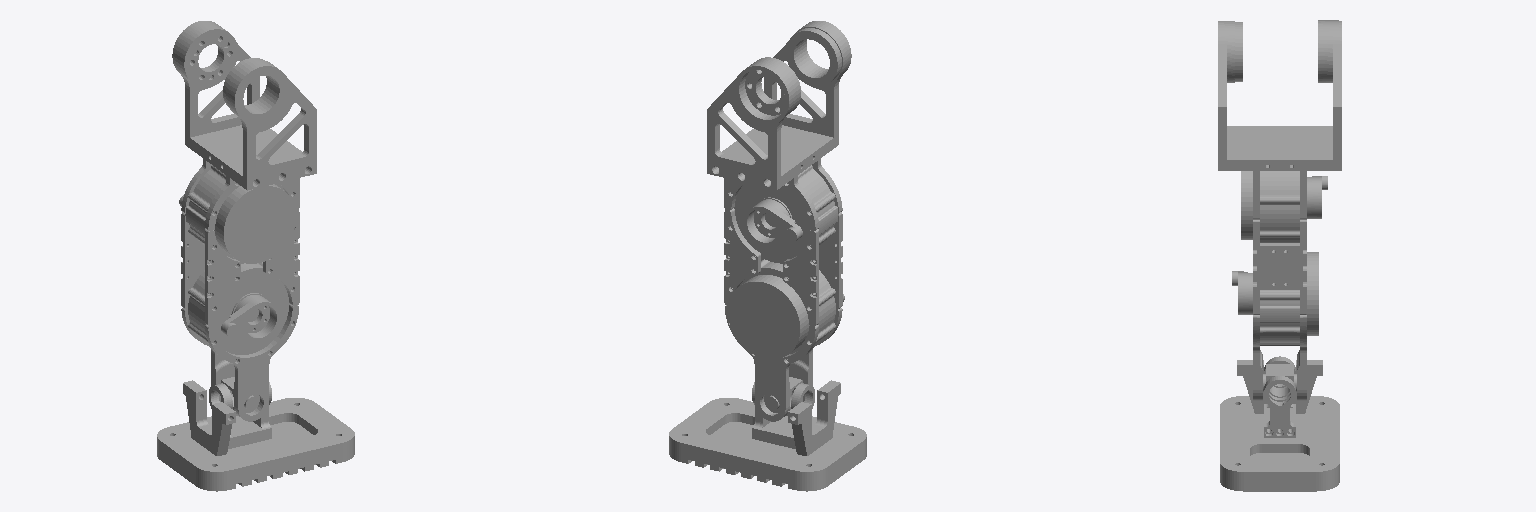
URDF robot description (rsu_2dof):
<?xml version="1.0" ?>
<!-- =================================================================================== -->
<!-- |    This document was autogenerated by xacro from rsu_2dof.xacro                 | -->
<!-- |    EDITING THIS FILE BY HAND IS NOT RECOMMENDED                                 | -->
<!-- =================================================================================== -->
<robot name="rsu_2dof">
  <material name="silver">
    <color rgba="0.700 0.700 0.700 1.000"/>
  </material>
  <transmission name="ankle_pitch_tran">
    <type>transmission_interface/SimpleTransmission</type>
    <joint name="ankle_pitch">
      <hardwareInterface>hardware_interface/EffortJointInterface</hardwareInterface>
    </joint>
    <actuator name="ankle_pitch_actr">
      <hardwareInterface>hardware_interface/EffortJointInterface</hardwareInterface>
      <mechanicalReduction>1</mechanicalReduction>
    </actuator>
  </transmission>
  <transmission name="upper_crank_tran">
    <type>transmission_interface/SimpleTransmission</type>
    <joint name="upper_crank">
      <hardwareInterface>hardware_interface/EffortJointInterface</hardwareInterface>
    </joint>
    <actuator name="upper_crank_actr">
      <hardwareInterface>hardware_interface/EffortJointInterface</hardwareInterface>
      <mechanicalReduction>1</mechanicalReduction>
    </actuator>
  </transmission>
  <transmission name="lower_crank_tran">
    <type>transmission_interface/SimpleTransmission</type>
    <joint name="lower_crank">
      <hardwareInterface>hardware_interface/EffortJointInterface</hardwareInterface>
    </joint>
    <actuator name="lower_crank_actr">
      <hardwareInterface>hardware_interface/EffortJointInterface</hardwareInterface>
      <mechanicalReduction>1</mechanicalReduction>
    </actuator>
  </transmission>
  <transmission name="ankle_roll_tran">
    <type>transmission_interface/SimpleTransmission</type>
    <joint name="ankle_roll">
      <hardwareInterface>hardware_interface/EffortJointInterface</hardwareInterface>
    </joint>
    <actuator name="ankle_roll_actr">
      <hardwareInterface>hardware_interface/EffortJointInterface</hardwareInterface>
      <mechanicalReduction>1</mechanicalReduction>
    </actuator>
  </transmission>
  <gazebo>
    <plugin filename="libgazebo_ros_control.so" name="control"/>
  </gazebo>
  <gazebo reference="base_link">
    <material>Gazebo/Silver</material>
    <mu1>0.2</mu1>
    <mu2>0.2</mu2>
    <self_collide>true</self_collide>
    <gravity>true</gravity>
  </gazebo>
  <gazebo reference="ankle_1">
    <material>Gazebo/Silver</material>
    <mu1>0.2</mu1>
    <mu2>0.2</mu2>
    <self_collide>true</self_collide>
  </gazebo>
  <gazebo reference="upper_crank_1">
    <material>Gazebo/Silver</material>
    <mu1>0.2</mu1>
    <mu2>0.2</mu2>
    <self_collide>true</self_collide>
  </gazebo>
  <gazebo reference="dummy_crank_1">
    <material>Gazebo/Silver</material>
    <mu1>0.2</mu1>
    <mu2>0.2</mu2>
    <self_collide>true</self_collide>
  </gazebo>
  <gazebo reference="point_c1_1">
    <material>Gazebo/Silver</material>
    <mu1>0.2</mu1>
    <mu2>0.2</mu2>
    <self_collide>true</self_collide>
  </gazebo>
  <gazebo reference="point_c2_1">
    <material>Gazebo/Silver</material>
    <mu1>0.2</mu1>
    <mu2>0.2</mu2>
    <self_collide>true</self_collide>
  </gazebo>
  <gazebo reference="dummy_foot_1">
    <material>Gazebo/Silver</material>
    <mu1>0.2</mu1>
    <mu2>0.2</mu2>
    <self_collide>true</self_collide>
  </gazebo>
  <gazebo reference="point_u2_1">
    <material>Gazebo/Silver</material>
    <mu1>0.2</mu1>
    <mu2>0.2</mu2>
    <self_collide>true</self_collide>
  </gazebo>
  <gazebo reference="point_u1_1">
    <material>Gazebo/Silver</material>
    <mu1>0.2</mu1>
    <mu2>0.2</mu2>
    <self_collide>true</self_collide>
  </gazebo>
  <link name="base_link">
    <inertial>
      <origin rpy="0 0 0" xyz="0.0015439622046916667 -0.0013953490143151371 0.2753522165320786"/>
      <mass value="5.5773556320875155"/>
      <inertia ixx="0.031297" ixy="-1.7e-05" ixz="-0.000221" iyy="0.031125" iyz="0.00125" izz="0.005396"/>
    </inertial>
    <visual>
      <origin rpy="0 0 0" xyz="0 0 0"/>
      <geometry>
        <mesh filename="package://joystick_rsu/robot_model/meshes/base_link.stl" scale="0.001 0.001 0.001"/>
      </geometry>
      <material name="silver"/>
    </visual>
    <collision>
      <origin rpy="0 0 0" xyz="0 0 0"/>
      <geometry>
        <mesh filename="package://joystick_rsu/robot_model/meshes/base_link.stl" scale="0.001 0.001 0.001"/>
      </geometry>
    </collision>
  </link>
  <link name="ankle_1">
    <inertial>
      <origin rpy="0 0 0" xyz="-1.6814828670667383e-07 -0.01449979082811163 1.3319298819425285e-07"/>
      <mass value="0.06598347385516058"/>
      <inertia ixx="1.1e-05" ixy="-0.0" ixz="0.0" iyy="6e-06" iyz="-0.0" izz="1e-05"/>
    </inertial>
    <visual>
      <origin rpy="0 0 0" xyz="7.7e-05 -0.013376 -0.125112"/>
      <geometry>
        <mesh filename="package://joystick_rsu/robot_model/meshes/ankle_1.stl" scale="0.001 0.001 0.001"/>
      </geometry>
      <material name="silver"/>
    </visual>
    <collision>
      <origin rpy="0 0 0" xyz="7.7e-05 -0.013376 -0.125112"/>
      <geometry>
        <mesh filename="package://joystick_rsu/robot_model/meshes/ankle_1.stl" scale="0.001 0.001 0.001"/>
      </geometry>
    </collision>
  </link>
  <link name="upper_crank_1">
    <inertial>
      <origin rpy="0 0 0" xyz="-0.006543704766420746 0.008551997179017213 1.331932131809488e-07"/>
      <mass value="0.07910975839927854"/>
      <inertia ixx="1e-05" ixy="3e-06" ixz="0.0" iyy="2.3e-05" iyz="0.0" izz="1.9e-05"/>
    </inertial>
    <visual>
      <origin rpy="0 0 0" xyz="7.7e-05 -0.016876 -0.295112"/>
      <geometry>
        <mesh filename="package://joystick_rsu/robot_model/meshes/upper_crank_1.stl" scale="0.001 0.001 0.001"/>
      </geometry>
      <material name="silver"/>
    </visual>
    <collision>
      <origin rpy="0 0 0" xyz="7.7e-05 -0.016876 -0.295112"/>
      <geometry>
        <mesh filename="package://joystick_rsu/robot_model/meshes/upper_crank_1.stl" scale="0.001 0.001 0.001"/>
      </geometry>
    </collision>
  </link>
  <link name="dummy_crank_1">
    <inertial>
      <origin rpy="0 0 0" xyz="-0.00654370476714048 -0.00855157883751815 1.3319265640410194e-07"/>
      <mass value="0.07910975839928247"/>
      <inertia ixx="1e-05" ixy="-3e-06" ixz="-0.0" iyy="2.3e-05" iyz="0.0" izz="1.9e-05"/>
    </inertial>
    <visual>
      <origin rpy="0 0 0" xyz="7.7e-05 0.019124 -0.207112"/>
      <geometry>
        <mesh filename="package://joystick_rsu/robot_model/meshes/dummy_crank_1.stl" scale="0.001 0.001 0.001"/>
      </geometry>
      <material name="silver"/>
    </visual>
    <collision>
      <origin rpy="0 0 0" xyz="7.7e-05 0.019124 -0.207112"/>
      <geometry>
        <mesh filename="package://joystick_rsu/robot_model/meshes/dummy_crank_1.stl" scale="0.001 0.001 0.001"/>
      </geometry>
    </collision>
  </link>
  <link name="point_c1_1">
    <inertial>
      <origin rpy="0 0 0" xyz="-1.706661195595427e-07 7.091764866462569e-07 0.00020942530882356314"/>
      <mass value="1.902707681457099e-07"/>
      <inertia ixx="0.0" ixy="-0.0" ixz="-0.0" iyy="0.0" iyz="0.0" izz="0.0"/>
    </inertial>
    <visual>
      <origin rpy="0 0 0" xyz="0.030077 -0.038876 -0.295112"/>
      <geometry>
        <mesh filename="package://joystick_rsu/robot_model/meshes/point_c1_1.stl" scale="0.001 0.001 0.001"/>
      </geometry>
      <material name="silver"/>
    </visual>
    <collision>
      <origin rpy="0 0 0" xyz="0.030077 -0.038876 -0.295112"/>
      <geometry>
        <mesh filename="package://joystick_rsu/robot_model/meshes/point_c1_1.stl" scale="0.001 0.001 0.001"/>
      </geometry>
    </collision>
  </link>
  <link name="point_c2_1">
    <inertial>
      <origin rpy="0 0 0" xyz="-1.656280141787425e-07 -2.908227270462249e-07 -0.00020915892277573178"/>
      <mass value="1.902707681457099e-07"/>
      <inertia ixx="0.0" ixy="0.0" ixz="-0.0" iyy="0.0" iyz="-0.0" izz="0.0"/>
    </inertial>
    <visual>
      <origin rpy="0 0 0" xyz="0.030077 0.041124 -0.207112"/>
      <geometry>
        <mesh filename="package://joystick_rsu/robot_model/meshes/point_c2_1.stl" scale="0.001 0.001 0.001"/>
      </geometry>
      <material name="silver"/>
    </visual>
    <collision>
      <origin rpy="0 0 0" xyz="0.030077 0.041124 -0.207112"/>
      <geometry>
        <mesh filename="package://joystick_rsu/robot_model/meshes/point_c2_1.stl" scale="0.001 0.001 0.001"/>
      </geometry>
    </collision>
  </link>
  <link name="dummy_foot_1">
    <inertial>
      <origin rpy="0 0 0" xyz="-0.002243988298611471 2.0917188390417486e-07 -0.04519072975889085"/>
      <mass value="2.100649409145815"/>
      <inertia ixx="0.00186" ixy="0.0" ixz="0.000201" iyy="0.003983" iyz="0.0" izz="0.005284"/>
    </inertial>
    <visual>
      <origin rpy="0 0 0" xyz="-0.011923 0.001124 -0.125112"/>
      <geometry>
        <mesh filename="package://joystick_rsu/robot_model/meshes/dummy_foot_1.stl" scale="0.001 0.001 0.001"/>
      </geometry>
      <material name="silver"/>
    </visual>
    <collision>
      <origin rpy="0 0 0" xyz="-0.011923 0.001124 -0.125112"/>
      <geometry>
        <mesh filename="package://joystick_rsu/robot_model/meshes/dummy_foot_1.stl" scale="0.001 0.001 0.001"/>
      </geometry>
    </collision>
  </link>
  <link name="point_u2_1">
    <inertial>
      <origin rpy="0 0 0" xyz="-1.7066754771921655e-07 -2.908219636638121e-07 0.00020942530832071538"/>
      <mass value="1.902707681457099e-07"/>
      <inertia ixx="0.0" ixy="-0.0" ixz="-0.0" iyy="0.0" iyz="0.0" izz="0.0"/>
    </inertial>
    <visual>
      <origin rpy="0 0 0" xyz="0.030077 0.037124 -0.125112"/>
      <geometry>
        <mesh filename="package://joystick_rsu/robot_model/meshes/point_u2_1.stl" scale="0.001 0.001 0.001"/>
      </geometry>
      <material name="silver"/>
    </visual>
    <collision>
      <origin rpy="0 0 0" xyz="0.030077 0.037124 -0.125112"/>
      <geometry>
        <mesh filename="package://joystick_rsu/robot_model/meshes/point_u2_1.stl" scale="0.001 0.001 0.001"/>
      </geometry>
    </collision>
  </link>
  <link name="point_u1_1">
    <inertial>
      <origin rpy="0 0 0" xyz="-1.7066751797564783e-07 7.091780363441269e-07 0.00020942530831527528"/>
      <mass value="1.902707681457099e-07"/>
      <inertia ixx="0.0" ixy="-0.0" ixz="-0.0" iyy="0.0" iyz="0.0" izz="0.0"/>
    </inertial>
    <visual>
      <origin rpy="0 0 0" xyz="0.030077 -0.034876 -0.125112"/>
      <geometry>
        <mesh filename="package://joystick_rsu/robot_model/meshes/point_u1_1.stl" scale="0.001 0.001 0.001"/>
      </geometry>
      <material name="silver"/>
    </visual>
    <collision>
      <origin rpy="0 0 0" xyz="0.030077 -0.034876 -0.125112"/>
      <geometry>
        <mesh filename="package://joystick_rsu/robot_model/meshes/point_u1_1.stl" scale="0.001 0.001 0.001"/>
      </geometry>
    </collision>
  </link>
  <joint name="ankle_pitch" type="continuous">
    <origin rpy="0 0 0" xyz="-7.7e-05 0.013376 0.125112"/>
    <parent link="base_link"/>
    <child link="ankle_1"/>
    <axis xyz="0.0 1.0 0.0"/>
  </joint>
  <joint name="upper_crank" type="continuous">
    <origin rpy="0 0 0" xyz="-7.7e-05 0.016876 0.295112"/>
    <parent link="base_link"/>
    <child link="upper_crank_1"/>
    <axis xyz="0.0 1.0 0.0"/>
  </joint>
  <joint name="lower_crank" type="continuous">
    <origin rpy="0 0 0" xyz="-7.7e-05 -0.019124 0.207112"/>
    <parent link="base_link"/>
    <child link="dummy_crank_1"/>
    <axis xyz="-0.0 -1.0 -0.0"/>
  </joint>
  <joint name="rigid_c1" type="fixed">
    <origin rpy="0 0 0" xyz="-0.03 0.022 0.0"/>
    <parent link="upper_crank_1"/>
    <child link="point_c1_1"/>
  </joint>
  <joint name="rigid_c2" type="fixed">
    <origin rpy="0 0 0" xyz="-0.03 -0.022 0.0"/>
    <parent link="dummy_crank_1"/>
    <child link="point_c2_1"/>
  </joint>
  <joint name="ankle_roll" type="continuous">
    <origin rpy="0 0 0" xyz="0.012 -0.0145 0.0"/>
    <parent link="ankle_1"/>
    <child link="dummy_foot_1"/>
    <axis xyz="1.0 0.0 0.0"/>
  </joint>
  <joint name="rigid_u2" type="fixed">
    <origin rpy="0 0 0" xyz="-0.042 -0.036 0.0"/>
    <parent link="dummy_foot_1"/>
    <child link="point_u2_1"/>
  </joint>
  <joint name="rigid_u1" type="fixed">
    <origin rpy="0 0 0" xyz="-0.042 0.036 0.0"/>
    <parent link="dummy_foot_1"/>
    <child link="point_u1_1"/>
  </joint>
</robot>

--- Render facts (derived) ---
3 views of the same robot in one strip: view 1: azimuth 30°, elevation 25°; view 2: azimuth 150°, elevation 25°; view 3: azimuth 270°, elevation 25° (orthographic).
Model rsu_2dof with 9 links and 8 joints (4 continuous, 4 fixed), rooted at base_link, posed every joint at zero.
Links seen in each view (by area): view 1: base_link, dummy_foot_1, dummy_crank_1; view 2: base_link, dummy_foot_1, upper_crank_1; view 3: base_link, dummy_foot_1, ankle_1, dummy_crank_1, upper_crank_1.
Boxes of the visible links, x1,y1,x2,y2 form: base_link: (172, 21, 316, 421); dummy_foot_1: (157, 380, 354, 491); dummy_crank_1: (221, 295, 279, 340); base_link: (707, 21, 851, 421); dummy_foot_1: (669, 380, 866, 491); upper_crank_1: (744, 199, 802, 245); base_link: (1218, 20, 1341, 400); dummy_foot_1: (1220, 356, 1339, 491); ankle_1: (1263, 364, 1296, 401); dummy_crank_1: (1232, 271, 1252, 314); upper_crank_1: (1307, 176, 1327, 218).
Size in the robot's own frame: 0.15 by 0.104 by 0.384 metres.
Meshes: 9 distinct files referenced, 9 mesh visuals loaded (9 binary STL).